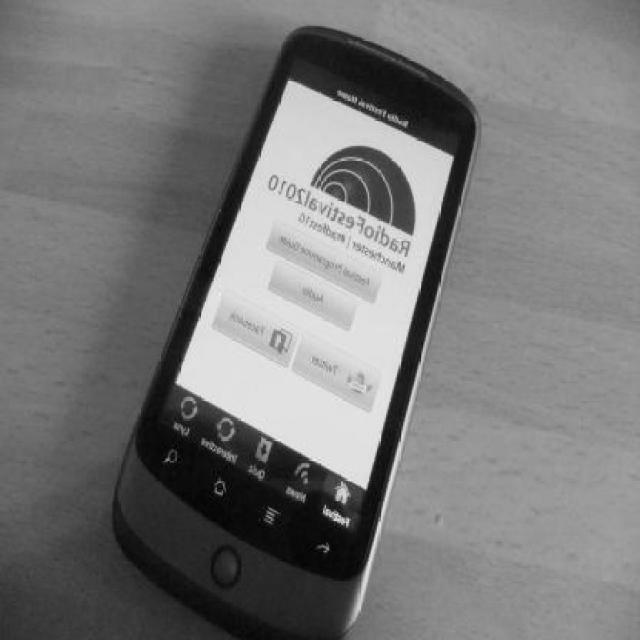fake: (102, 16, 496, 638)
